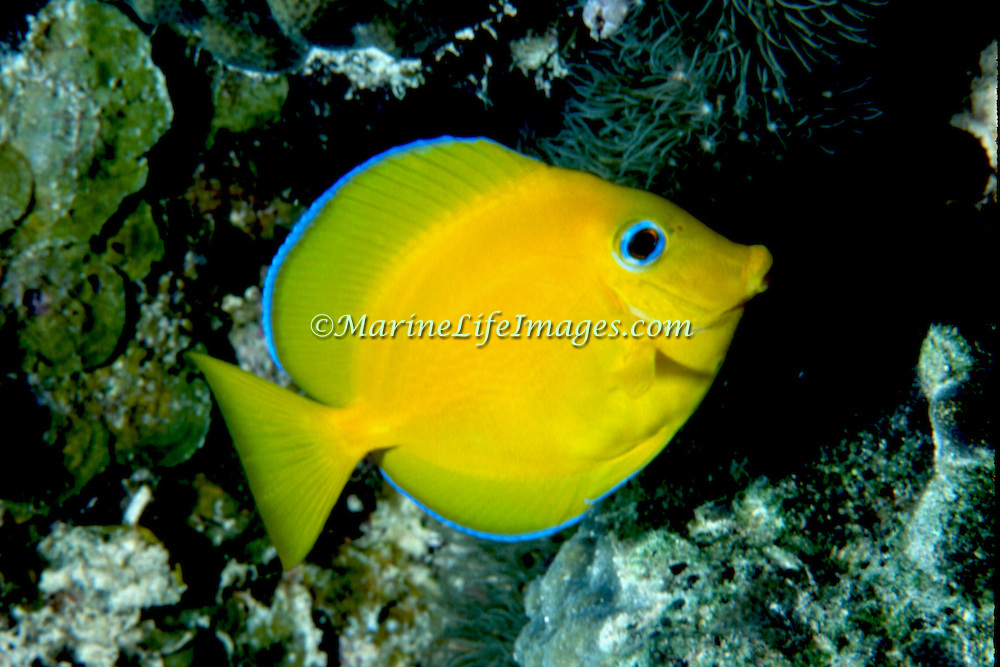Acanthurus_coeruleus: (180, 135, 777, 572)
